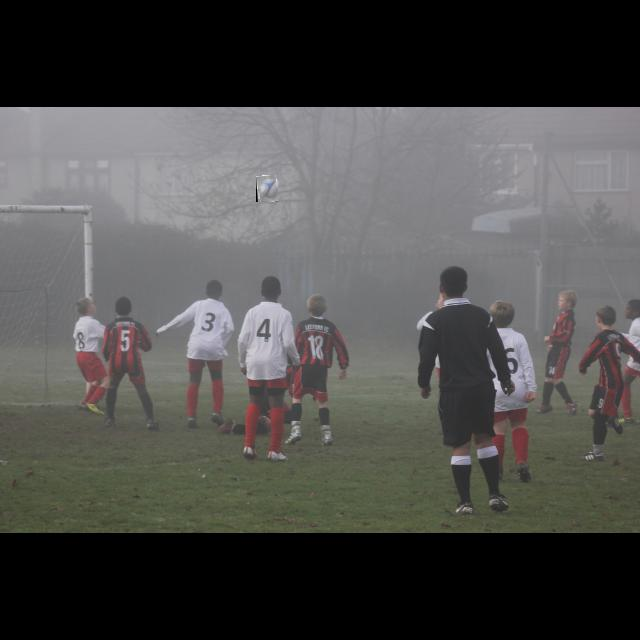Football: (256, 176, 278, 202)
